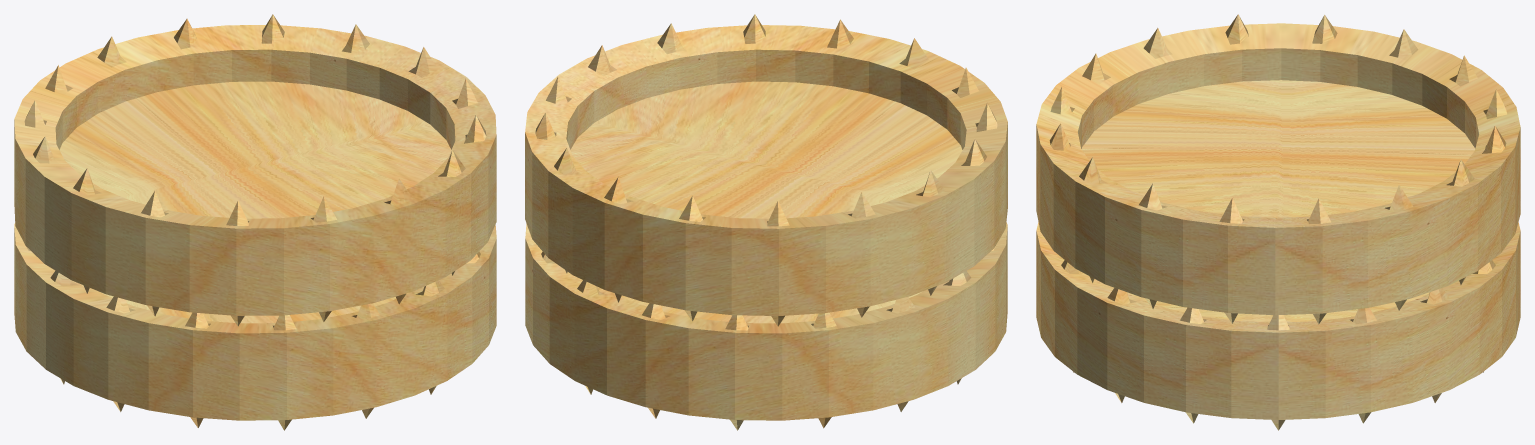
File: crownedchecker.glb
3 renders of one model, left to right at view 1: azimuth 30°, elevation 25°; view 2: azimuth 150°, elevation 25°; view 3: azimuth 270°, elevation 25°, orthographic.
Parts seen in each view (by area): view 1: Cylinder; view 2: Cylinder; view 3: Cylinder.
Part boxes in pixels (box(x1,y1,x2,y2)): Cylinder: box(14, 14, 496, 430); Cylinder: box(525, 14, 1007, 430); Cylinder: box(1036, 14, 1520, 430).
Size of the model in its own units: 8.06 by 4.25 by 8.06.
1 material, 1 textured.
